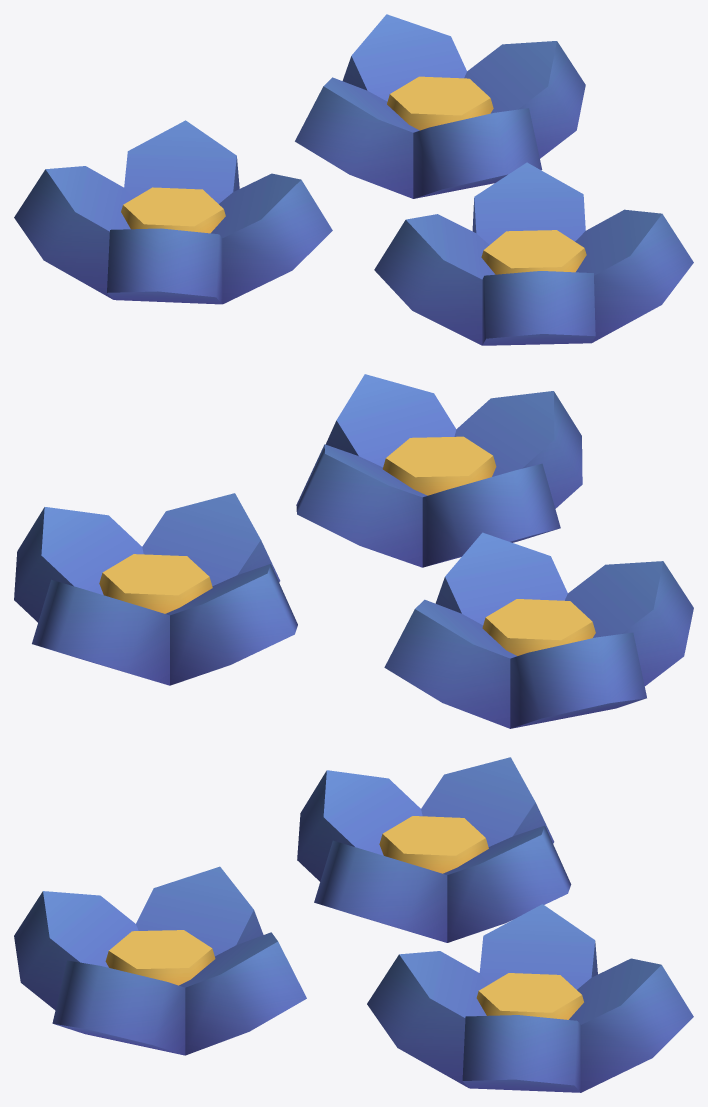
Rendered from flowers.glb.
3 renders of one model, top to bottom at view 1: azimuth 30°, elevation 25°; view 2: azimuth 150°, elevation 25°; view 3: azimuth 270°, elevation 25°, orthographic. The views are drawn at different scales.
Visible parts, largest first — view 1: flowers; view 2: flowers; view 3: flowers.
Boxes of the visible parts, x1,y1,x2,y2 form: flowers: [14, 14, 693, 345]; flowers: [14, 374, 693, 728]; flowers: [14, 757, 693, 1092].
Size of the model in its own units: 0.7766 by 0.1371 by 0.7857.
Materials: 1 (1 with a texture image).
